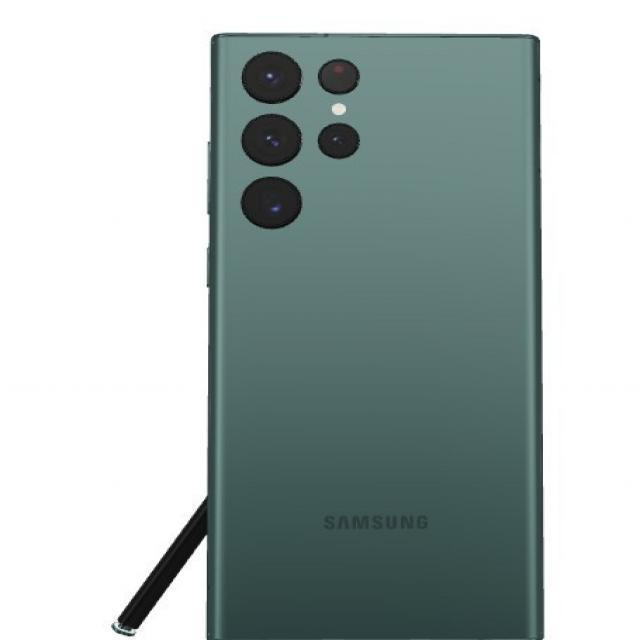phone: (206, 31, 544, 640)
